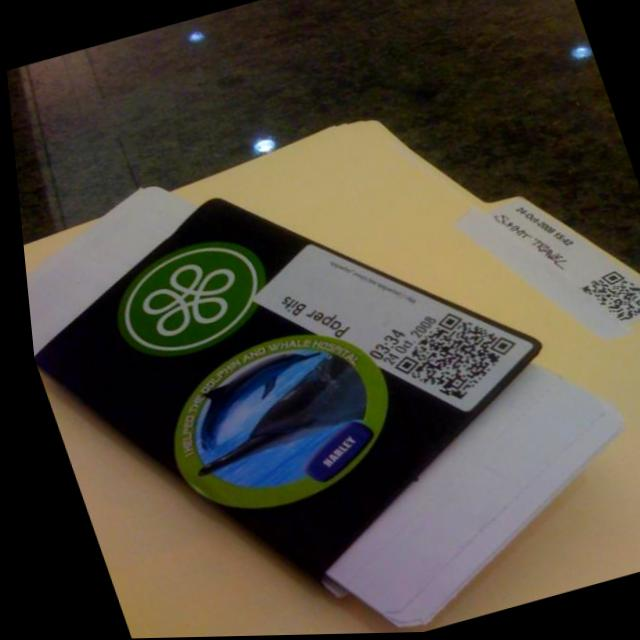qrcode: (373, 300, 523, 415), (572, 267, 640, 332)
